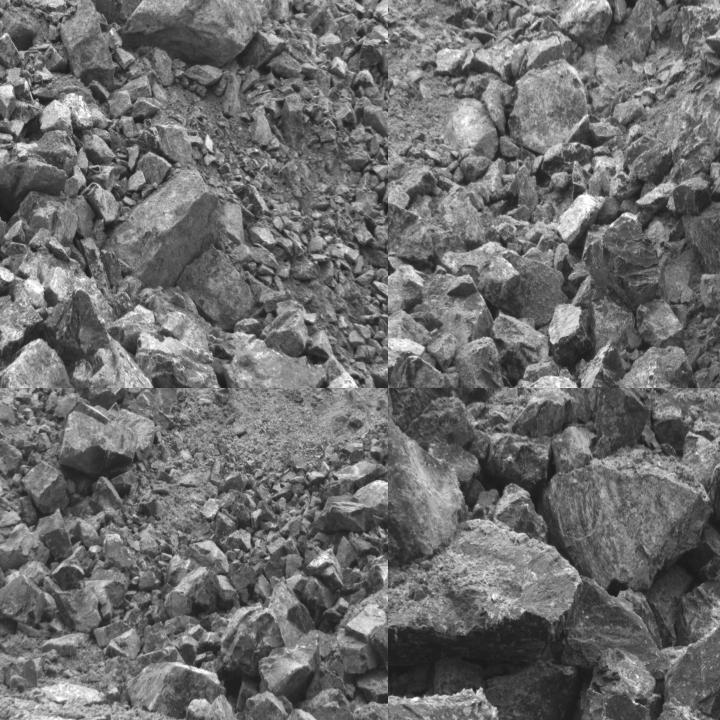stone: (388, 524, 572, 680), (538, 450, 711, 592), (44, 284, 184, 387), (101, 163, 213, 288), (388, 409, 466, 563), (439, 242, 568, 325), (564, 579, 673, 674), (115, 0, 263, 69), (582, 214, 667, 312), (507, 61, 590, 153), (177, 243, 255, 331), (0, 129, 77, 210), (572, 648, 659, 719), (124, 660, 226, 720), (662, 614, 719, 718), (488, 661, 580, 719), (59, 411, 137, 478), (77, 398, 157, 463), (220, 602, 285, 682), (416, 274, 493, 340), (388, 202, 465, 266), (135, 331, 220, 387), (60, 0, 115, 85), (585, 344, 693, 387), (589, 388, 651, 460), (489, 310, 550, 383), (0, 338, 87, 387), (485, 432, 552, 495), (549, 274, 592, 363), (319, 479, 387, 535), (654, 388, 719, 444), (511, 388, 582, 439), (0, 570, 63, 627), (307, 629, 355, 700), (682, 198, 719, 289), (130, 621, 188, 677), (320, 461, 387, 509), (674, 578, 719, 647), (291, 355, 387, 387), (496, 484, 546, 544), (45, 580, 100, 634), (555, 0, 613, 51), (163, 567, 220, 616), (555, 193, 605, 247), (0, 292, 42, 356), (622, 0, 666, 61), (22, 463, 70, 518), (667, 5, 719, 55), (440, 191, 487, 244), (263, 299, 306, 356), (634, 298, 685, 346), (144, 118, 192, 167), (453, 339, 502, 387), (551, 425, 597, 474), (34, 508, 74, 562), (159, 553, 204, 600), (51, 545, 94, 591), (179, 538, 231, 576), (388, 356, 447, 387), (542, 143, 594, 177), (99, 518, 133, 570), (356, 662, 387, 719), (83, 0, 143, 29), (304, 548, 344, 591), (345, 604, 387, 644), (628, 144, 670, 183), (298, 690, 353, 719), (83, 183, 122, 223), (673, 177, 712, 216), (90, 476, 123, 518), (243, 690, 290, 719), (561, 388, 598, 423), (510, 172, 536, 220), (37, 100, 72, 134), (248, 111, 279, 149), (198, 607, 238, 636), (39, 632, 90, 654), (136, 152, 171, 184), (104, 628, 142, 657), (80, 134, 116, 164), (210, 511, 236, 552), (196, 693, 236, 719), (266, 50, 301, 78), (78, 388, 120, 411), (130, 388, 162, 418), (229, 494, 254, 529), (229, 559, 257, 590), (184, 64, 221, 87), (129, 96, 162, 121), (371, 625, 387, 676), (0, 32, 22, 69), (357, 38, 382, 68), (336, 535, 358, 569), (307, 330, 334, 357), (138, 564, 164, 592), (110, 388, 142, 410), (318, 32, 344, 58), (182, 698, 213, 719), (0, 80, 16, 119), (278, 519, 308, 539), (353, 702, 387, 719), (124, 607, 148, 631), (88, 80, 110, 104), (371, 0, 387, 31), (285, 554, 305, 578), (266, 537, 286, 561), (198, 631, 221, 651), (0, 268, 15, 298), (254, 574, 270, 602), (119, 116, 138, 137), (126, 144, 140, 170), (265, 560, 285, 578), (132, 591, 153, 608), (378, 38, 387, 77), (354, 323, 371, 341), (348, 330, 365, 348), (89, 545, 103, 564)
